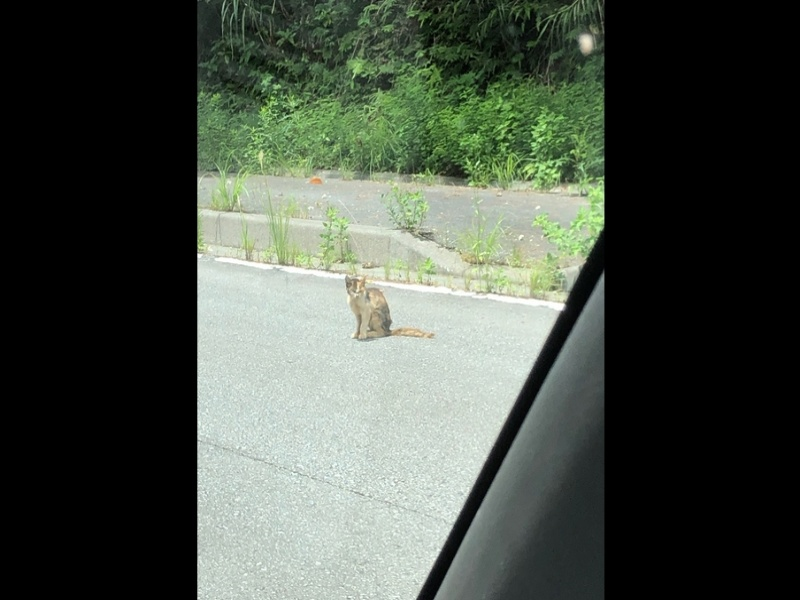cat: (343, 274, 437, 340)
